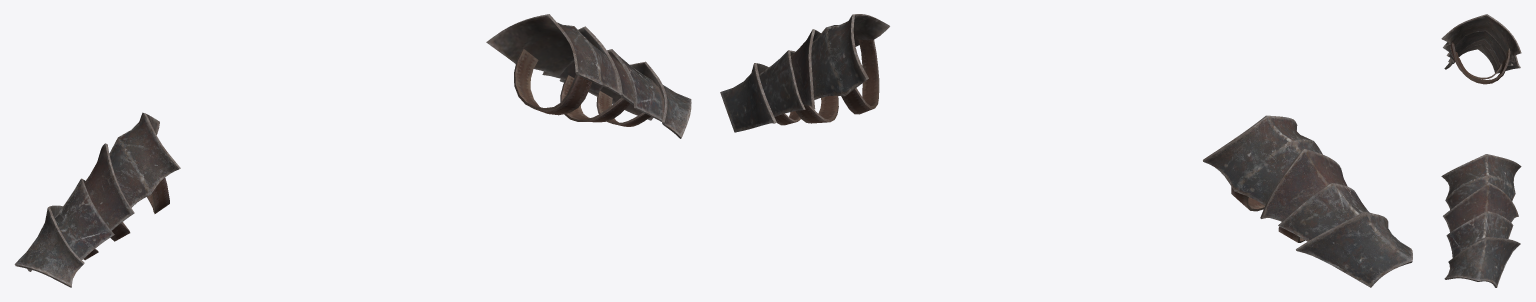
The model's file is sk_dg_uruk_bracer_elite_d.fbx.
3 renders of one model, left to right at view 1: azimuth 30°, elevation 25°; view 2: azimuth 150°, elevation 25°; view 3: azimuth 270°, elevation 25°, orthographic. The views are drawn at different scales.
Visible parts, largest first — view 1: sk_dg_uruk_bracer_elite_d; view 2: sk_dg_uruk_bracer_elite_d; view 3: sk_dg_uruk_bracer_elite_d.
Part boxes in pixels (x1,y1,x2,y2): sk_dg_uruk_bracer_elite_d: (14,14,691,287); sk_dg_uruk_bracer_elite_d: (720,14,1412,287); sk_dg_uruk_bracer_elite_d: (1441,14,1521,287).
Bounding box in the file's own units: 1.48 × 0.2151 × 0.2866.
1 material, 1 textured.
